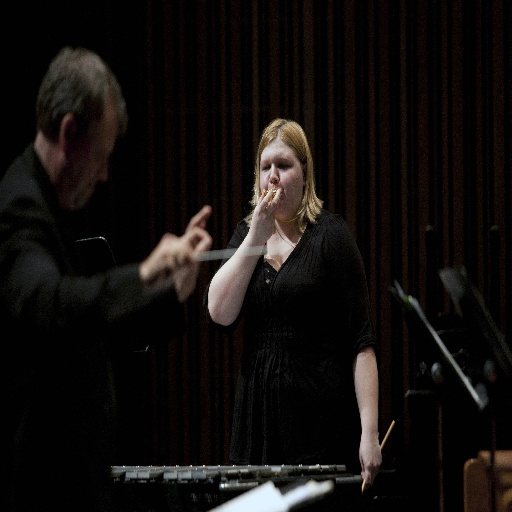hand: (120, 210, 210, 308), (181, 204, 210, 295), (249, 188, 283, 241), (357, 431, 383, 489)
